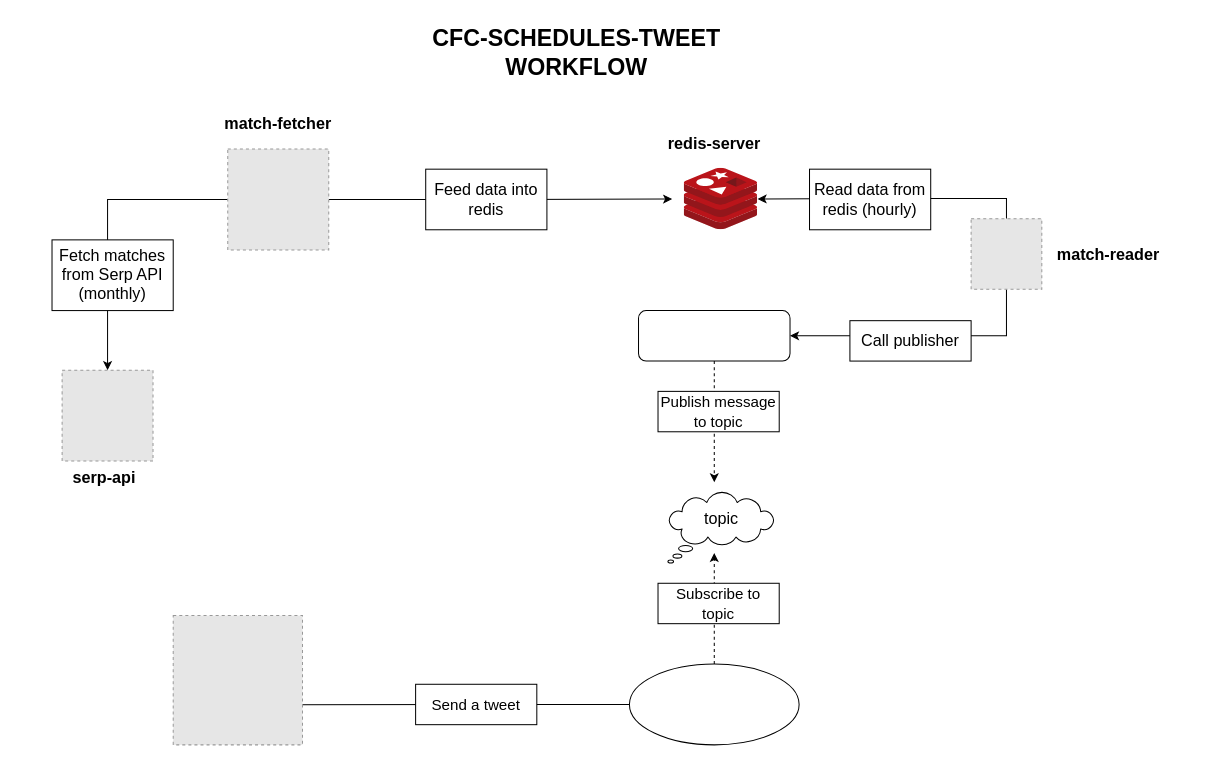
Some shapes in this 1212 by 763 pixel diagram are drawn without their labels. Grey dashed boxes stand in for pictures. The shapes that lost their labels are listed below. From the top down, each one's box as (x1, y1, x2, y2) in pixels, then its label:
(638, 310, 790, 361): Publisher
(628, 663, 799, 745): Subscriber
